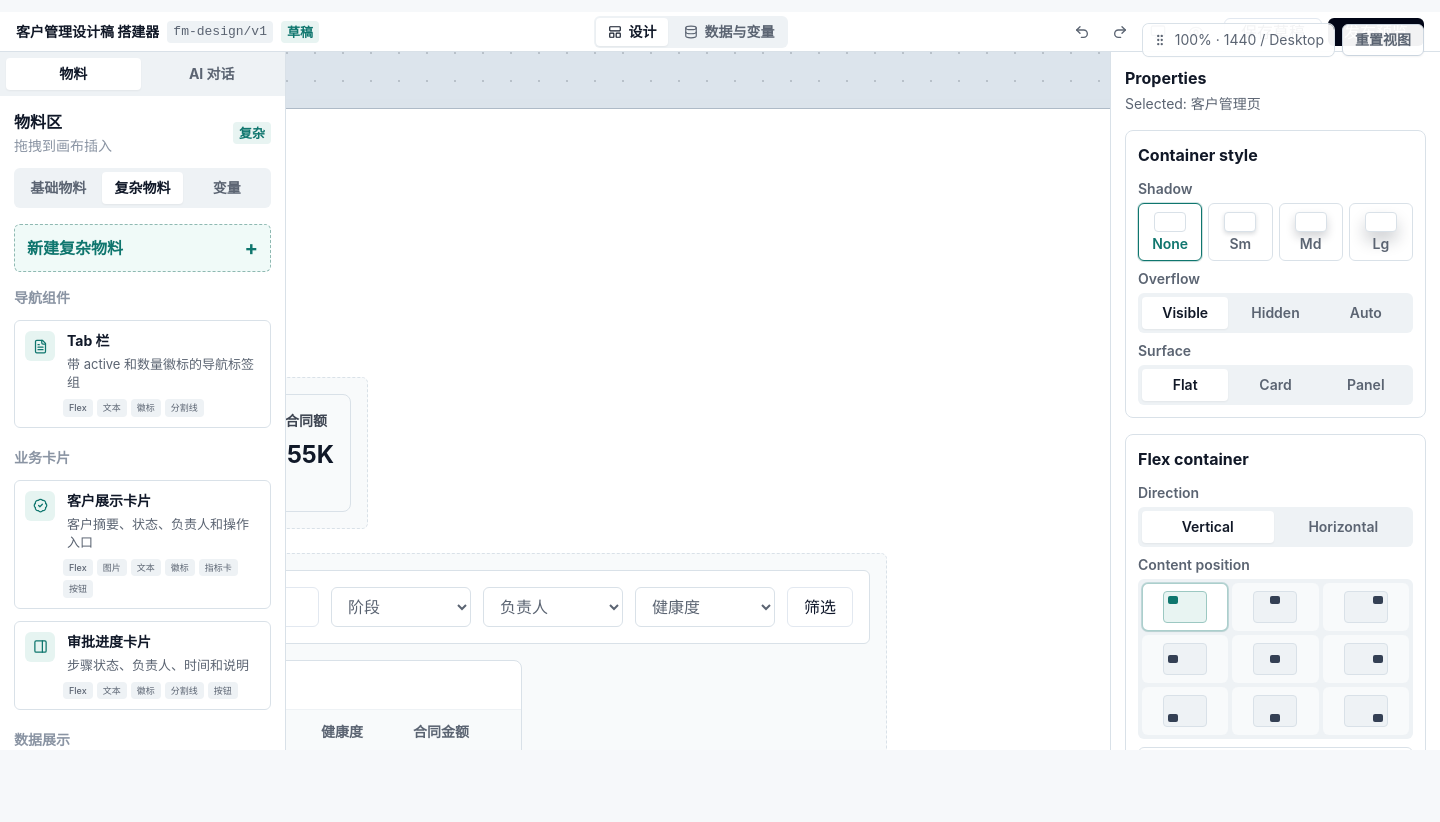
LowCodePage design builder › adds a material from the palette and selects it
Click the button "基础物料" at (58, 188), box [18,172,98,204]
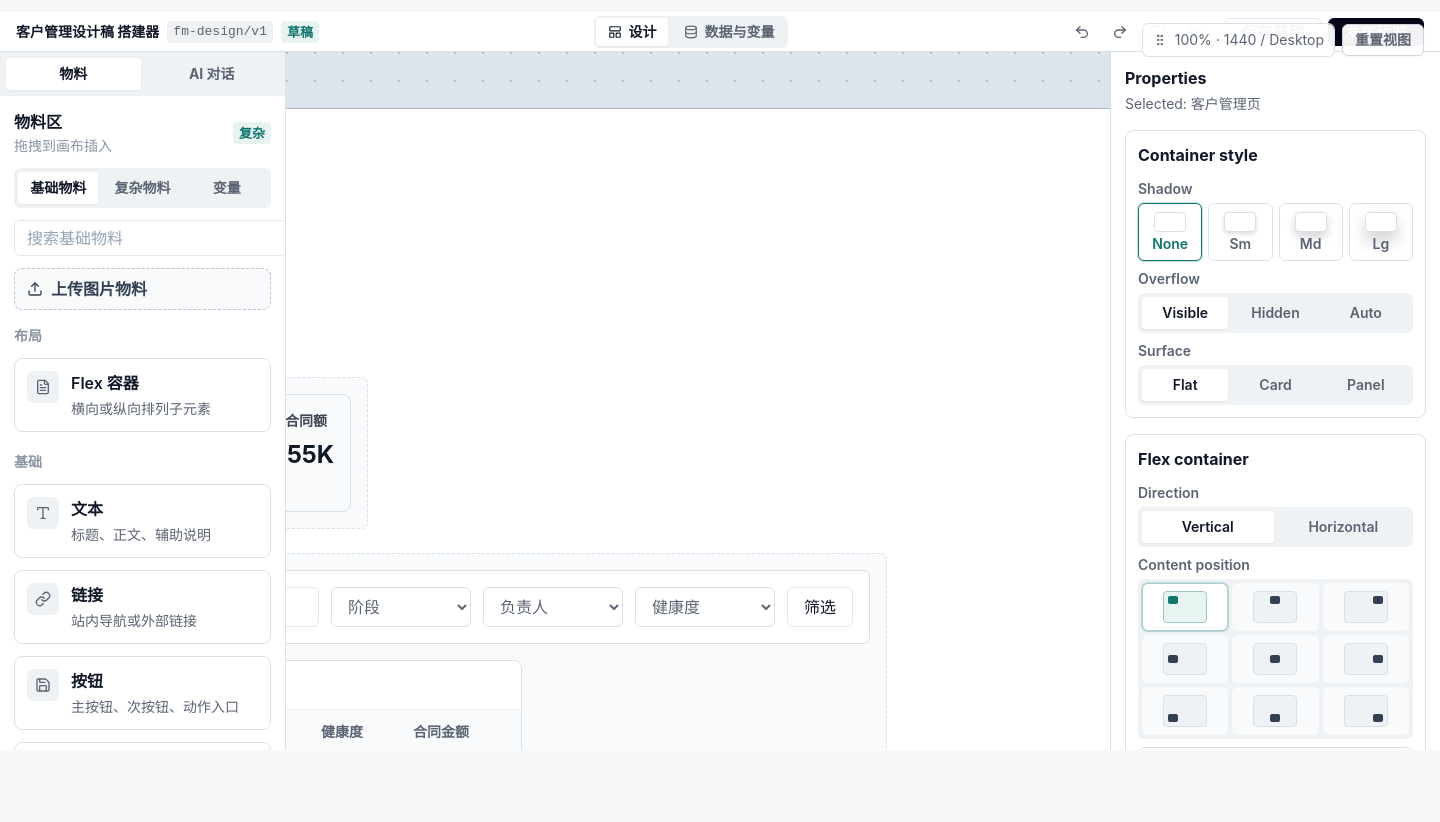
Expected: the button "文本 标题、正文、辅助说明" is shown
Click the button "文本 标题、正文、辅助说明" at (142, 521), box [14,484,271,558]
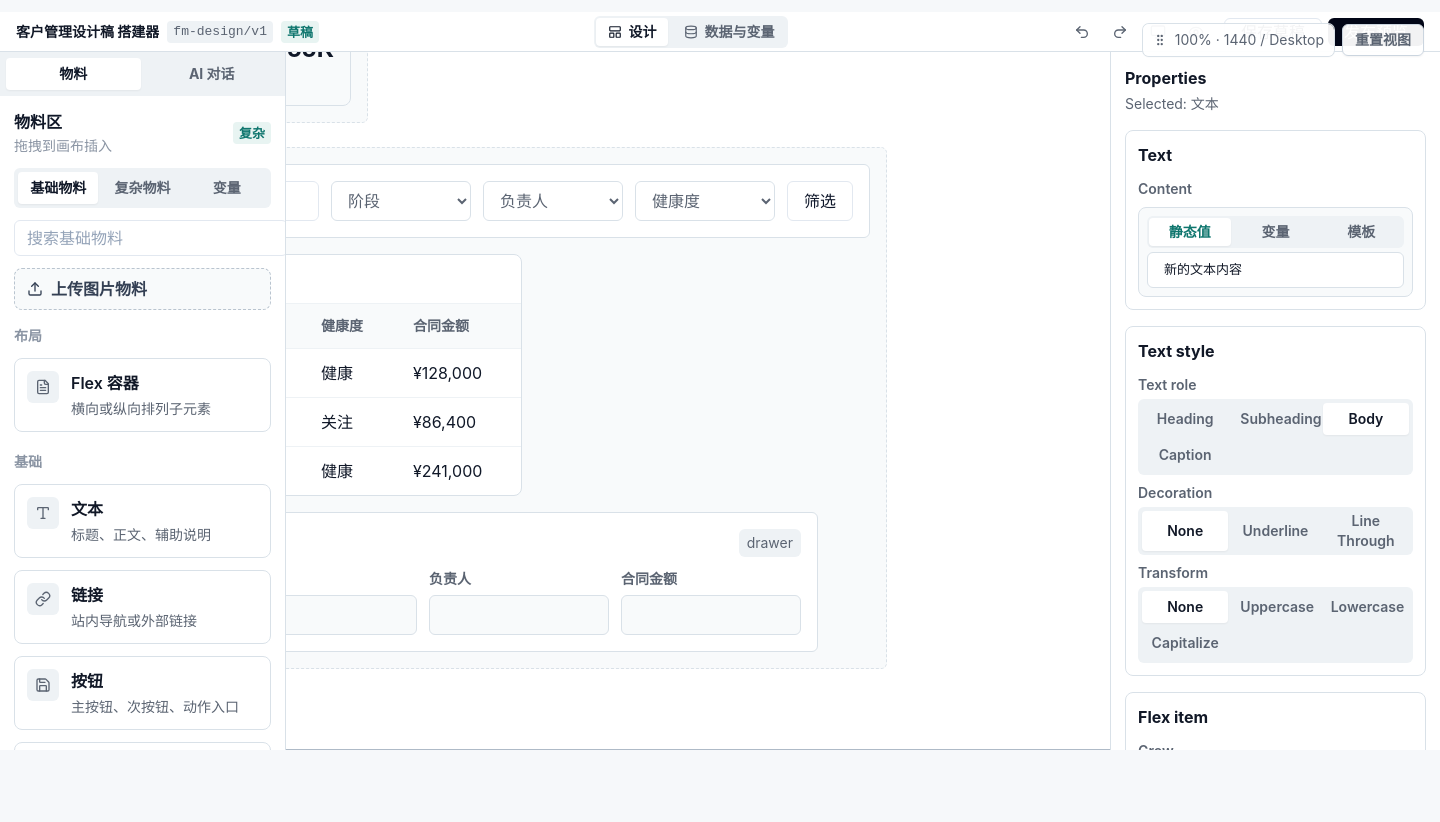
Expected: the text "Selected: 文本" is shown, [1125,95,1219,112]
